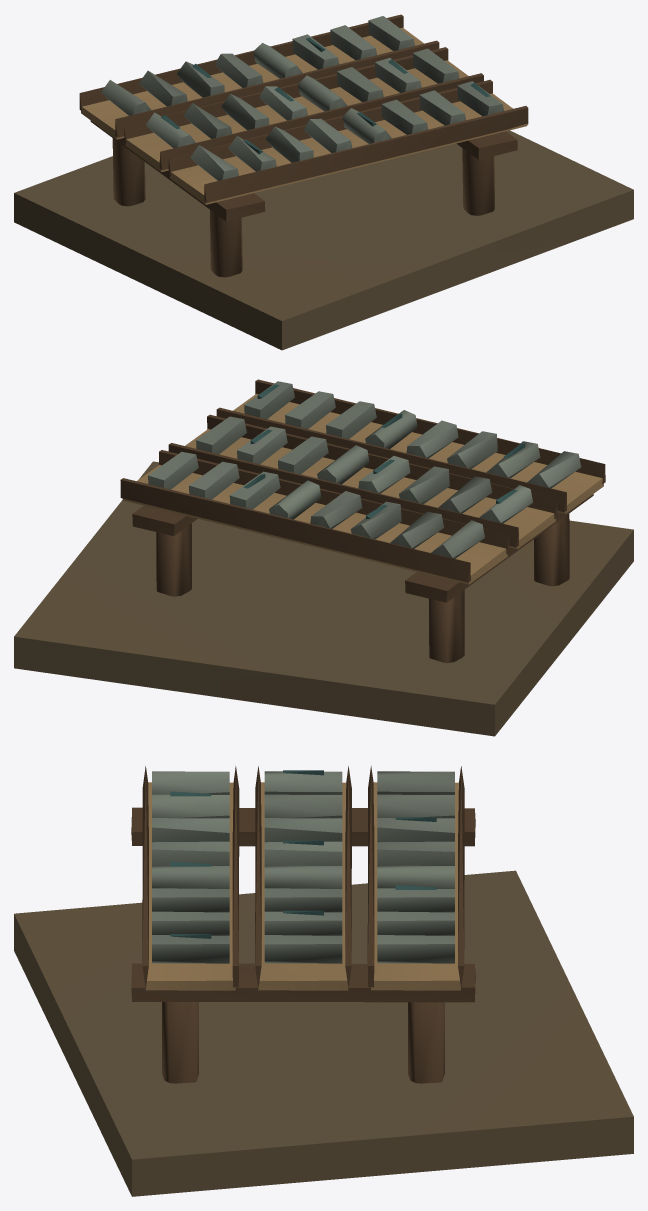
Rendered from core_trays_a_lod1.glb.
3 renders of one model, top to bottom at view 1: azimuth 30°, elevation 25°; view 2: azimuth 150°, elevation 25°; view 3: azimuth 270°, elevation 25°, orthographic. The views are drawn at different scales.
Visible parts, largest first — view 1: Surface.001; view 2: Surface.001; view 3: Surface.001.
Part boxes in pixels (x1,y1,x2,y2): Surface.001: [14, 14, 633, 350]; Surface.001: [14, 379, 633, 736]; Surface.001: [14, 765, 633, 1196].
Bounding box in the file's own units: 3.34 × 0.9875 × 3.03.
